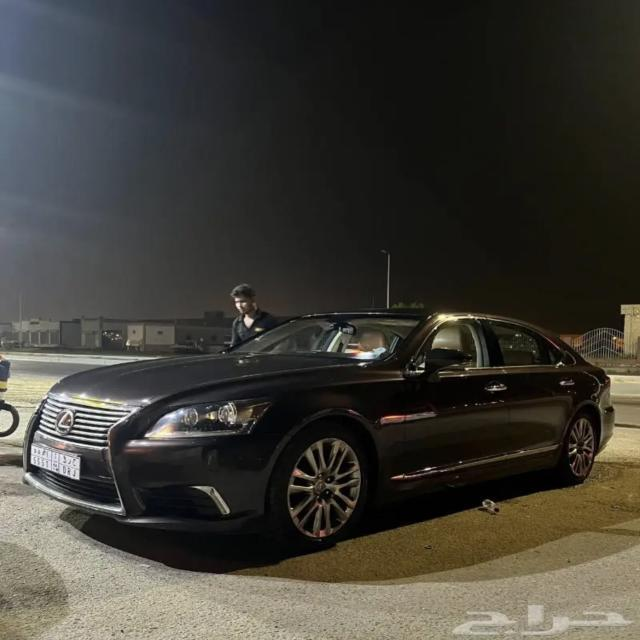license_plate: (31, 443, 80, 480)
